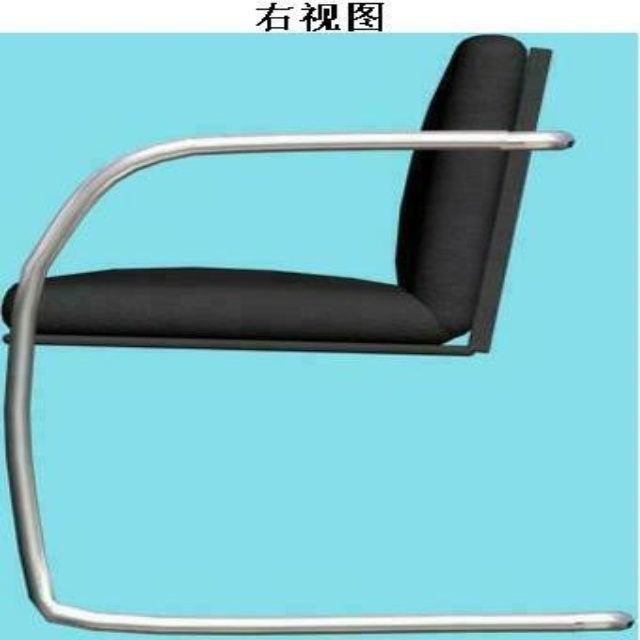obstacle: (32, 34, 634, 614), (4, 481, 632, 639)
